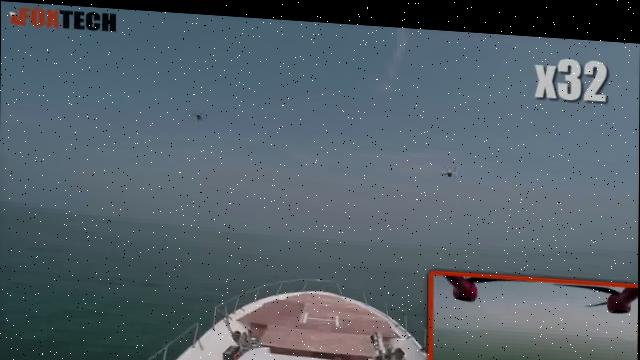drone: (0, 190, 639, 360)
